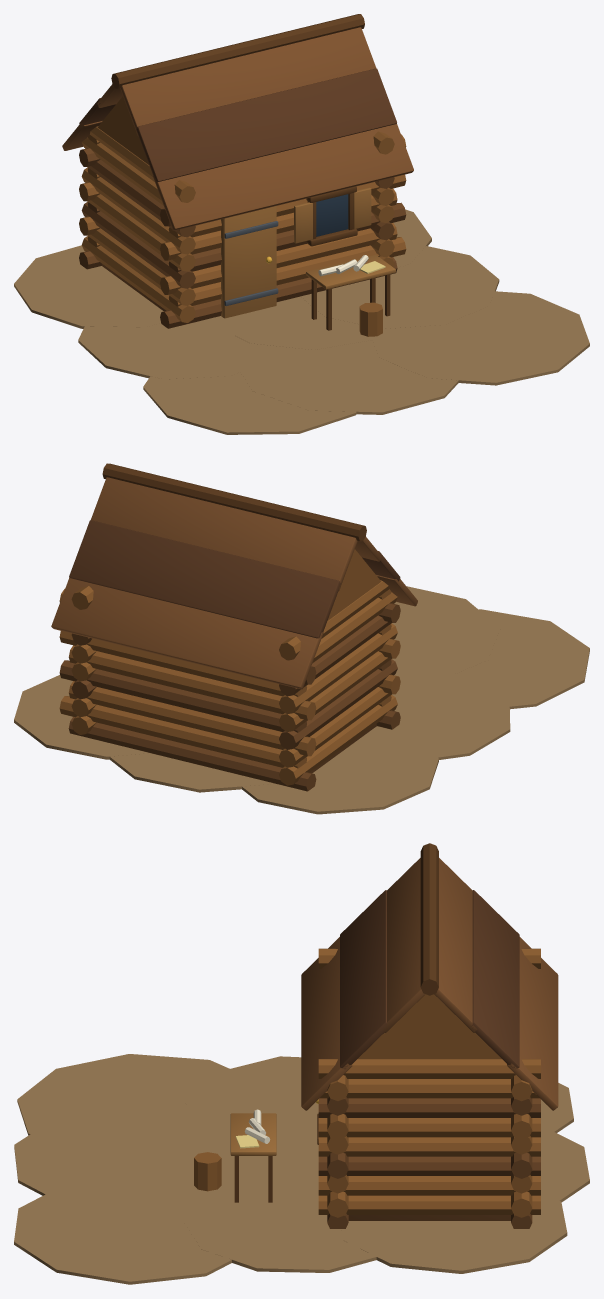
File: akademia_poz01.glb
The picture shows the model from 3 angles, top to bottom: view 1: azimuth 30°, elevation 25°; view 2: azimuth 150°, elevation 25°; view 3: azimuth 270°, elevation 25°; orthographic projection. The views are drawn at different scales.
Visible parts, largest first — view 1: akademia_poz01; view 2: akademia_poz01; view 3: akademia_poz01.
Boxes of the visible parts, box(x1,y1,x2,y2) form: akademia_poz01: box(14, 14, 589, 434); akademia_poz01: box(14, 463, 589, 814); akademia_poz01: box(14, 843, 589, 1284).
Size of the model in its own units: 7.05 by 3.72 by 7.52.
